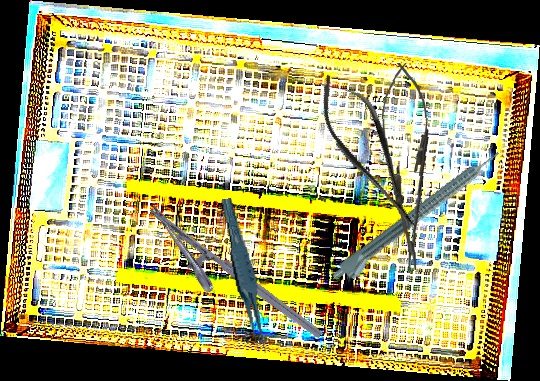Handpiece: (329, 146, 509, 291)
Micro Scissor: (303, 61, 434, 244)
Needle Holder: (131, 204, 324, 363), (376, 61, 437, 272)
Tissue Forceps: (219, 196, 269, 356)
